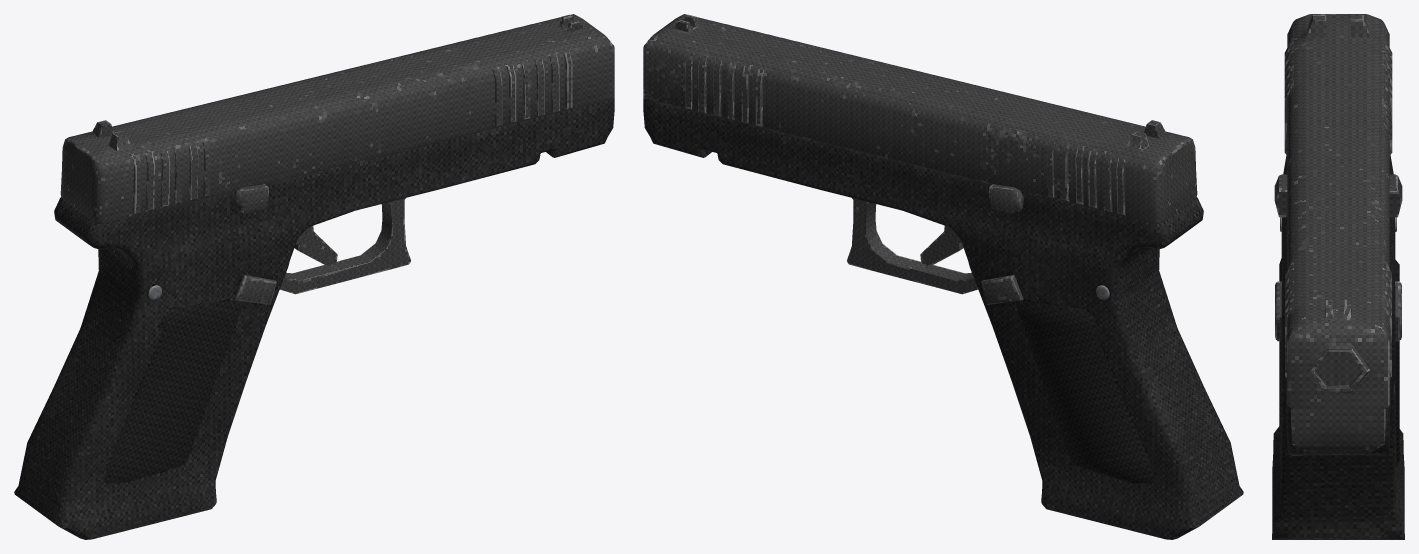
File: pistol.glb
3 views of the same model, side by side, from view 1: azimuth 30°, elevation 25°; view 2: azimuth 150°, elevation 25°; view 3: azimuth 270°, elevation 25° (orthographic). The views are drawn at different scales.
Visible parts, largest first — view 1: Body; view 2: Body; view 3: Body.
Part boxes in pixels (x1,y1,x2,y2): Body: [14, 14, 614, 539]; Body: [643, 14, 1243, 539]; Body: [1272, 14, 1404, 539].
Bounding box in the file's own units: 0.9 × 0.5817 × 0.1461.
Materials: 1 (1 with a texture image).
